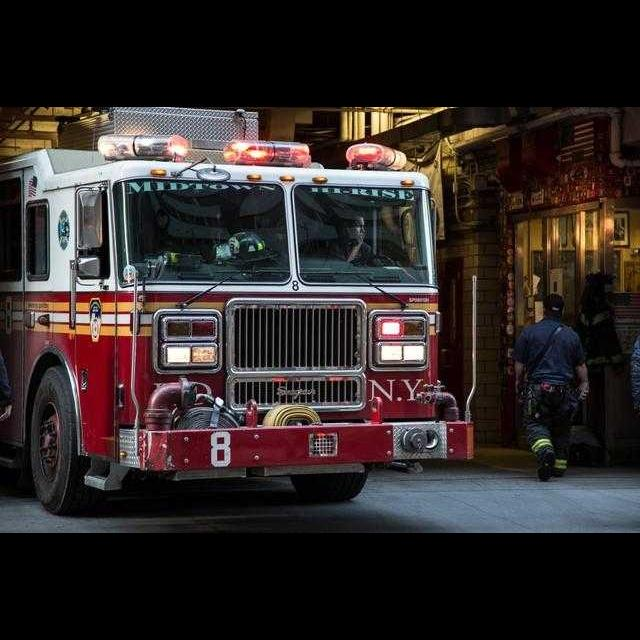emergency: (1, 134, 479, 514)
